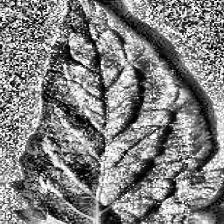spider mites: (13, 0, 224, 224)
